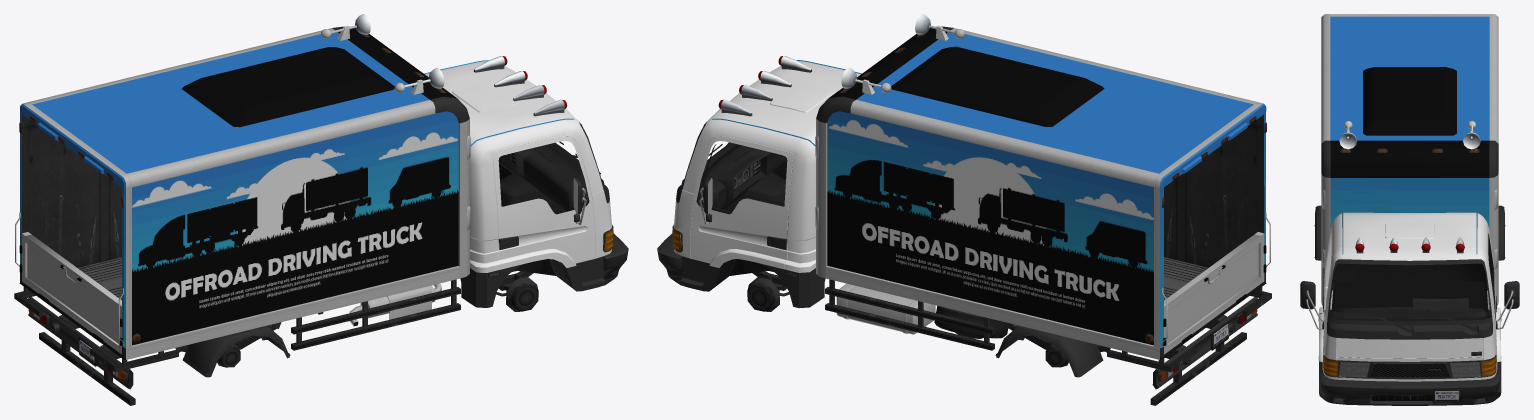
File: Body 90 light commercial truck.fbx
The picture shows the model from 3 angles, left to right: view 1: azimuth 30°, elevation 25°; view 2: azimuth 150°, elevation 25°; view 3: azimuth 270°, elevation 25°; orthographic projection. The views are drawn at different scales.
Parts seen in each view (by area): view 1: body; view 2: body; view 3: body.
Part boxes in pixels (x1=…): body: x1=14, y1=14, x2=628, y2=405; body: x1=657, y1=14, x2=1271, y2=405; body: x1=1300, y1=14, x2=1519, y2=405.
Bounding box in the file's own units: 6.02 × 2.85 × 2.61.
